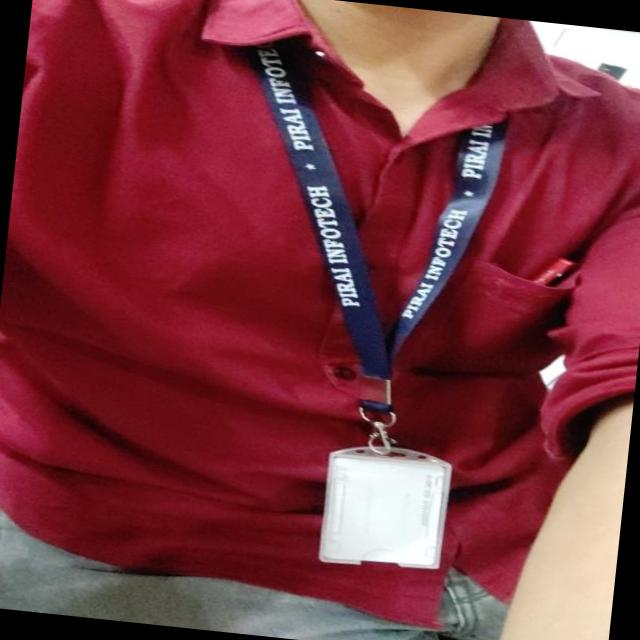id_card: (196, 36, 520, 578)
